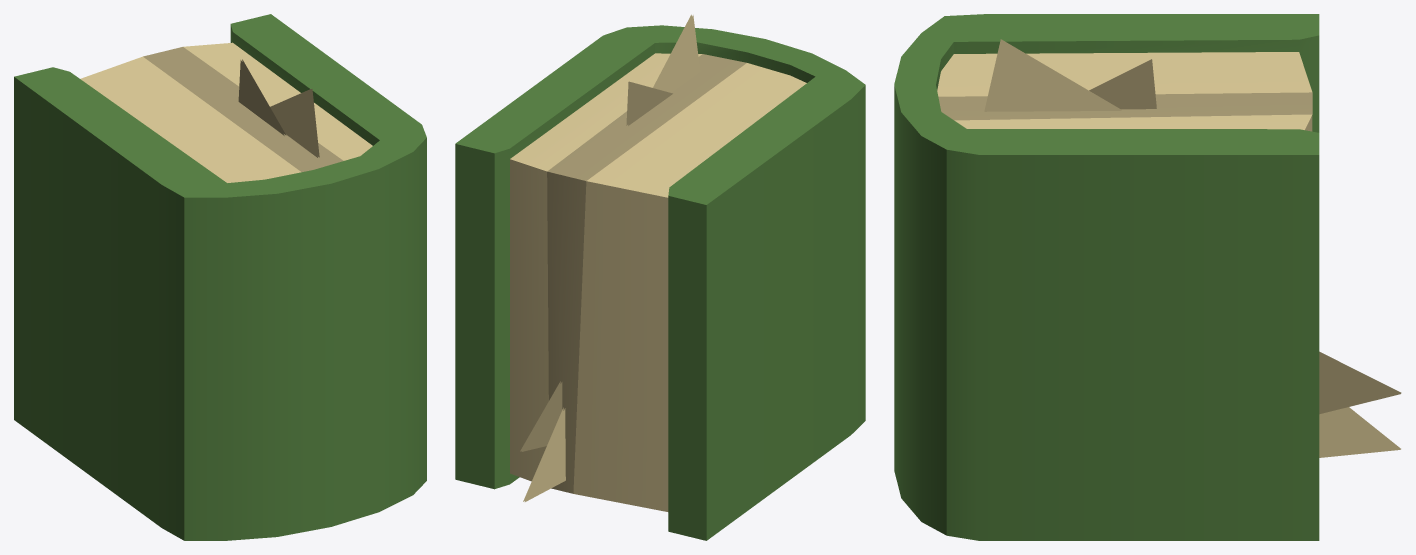
File: book1.fbx
The picture shows the model from 3 angles, left to right: view 1: azimuth 30°, elevation 25°; view 2: azimuth 150°, elevation 25°; view 3: azimuth 270°, elevation 25°; orthographic projection. The views are drawn at different scales.
Parts seen in each view (by area): view 1: Cube.047; view 2: Cube.047; view 3: Cube.047.
Part boxes in pixels (x1=…): Cube.047: x1=14, y1=14, x2=426, y2=540; Cube.047: x1=455, y1=14, x2=865, y2=540; Cube.047: x1=894, y1=14, x2=1401, y2=540.
Size of the model in its own units: 26.28 by 38.77 by 39.98.
